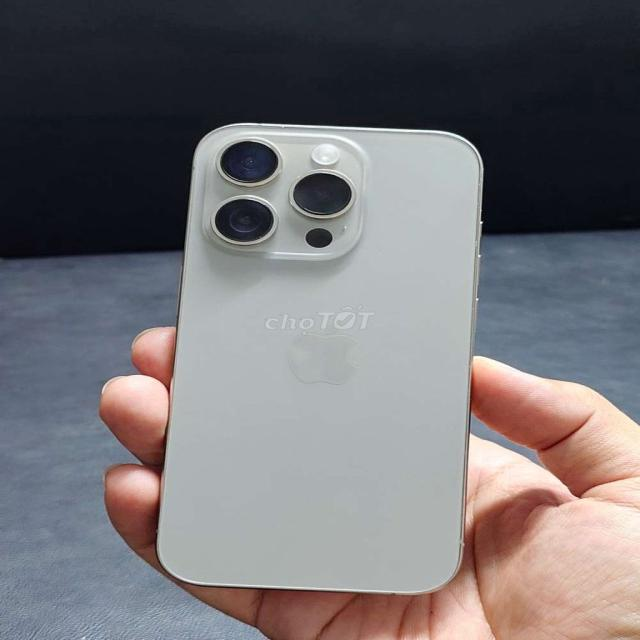gen_15: (145, 113, 505, 604)
